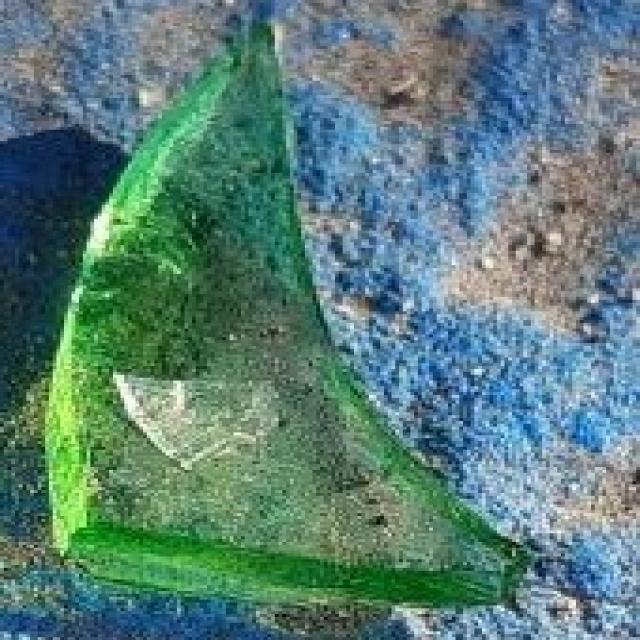Dry: (50, 262, 354, 602), (83, 128, 300, 260), (355, 415, 428, 597), (175, 37, 290, 128), (430, 493, 513, 600)
